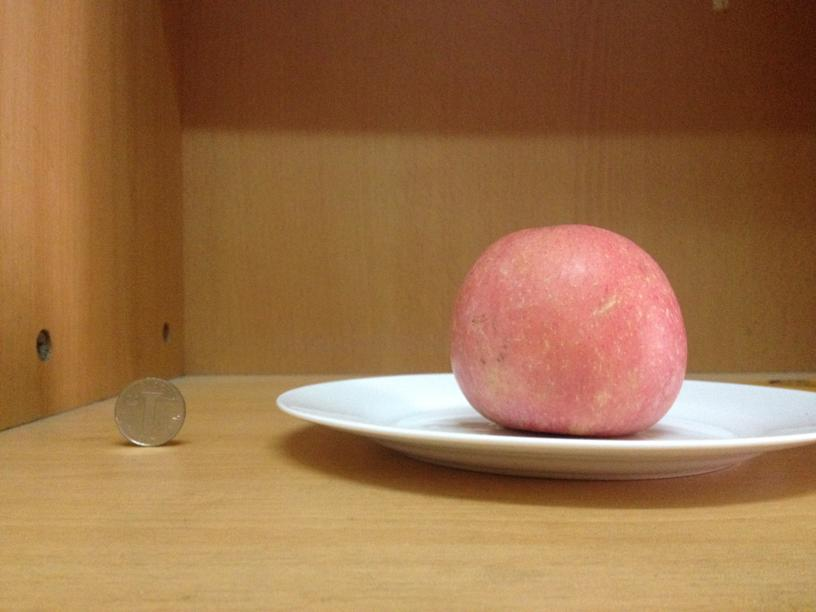apple: (453, 223, 689, 436)
coin: (110, 374, 186, 447)
